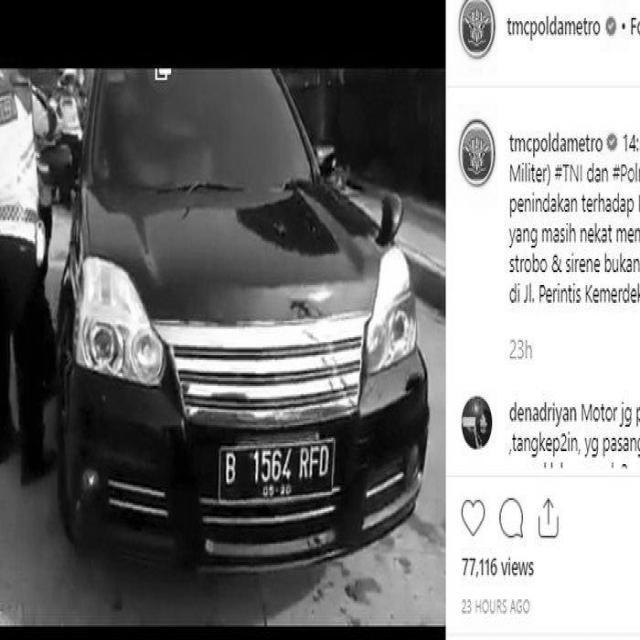clone-license-plate: (218, 445, 335, 498)
